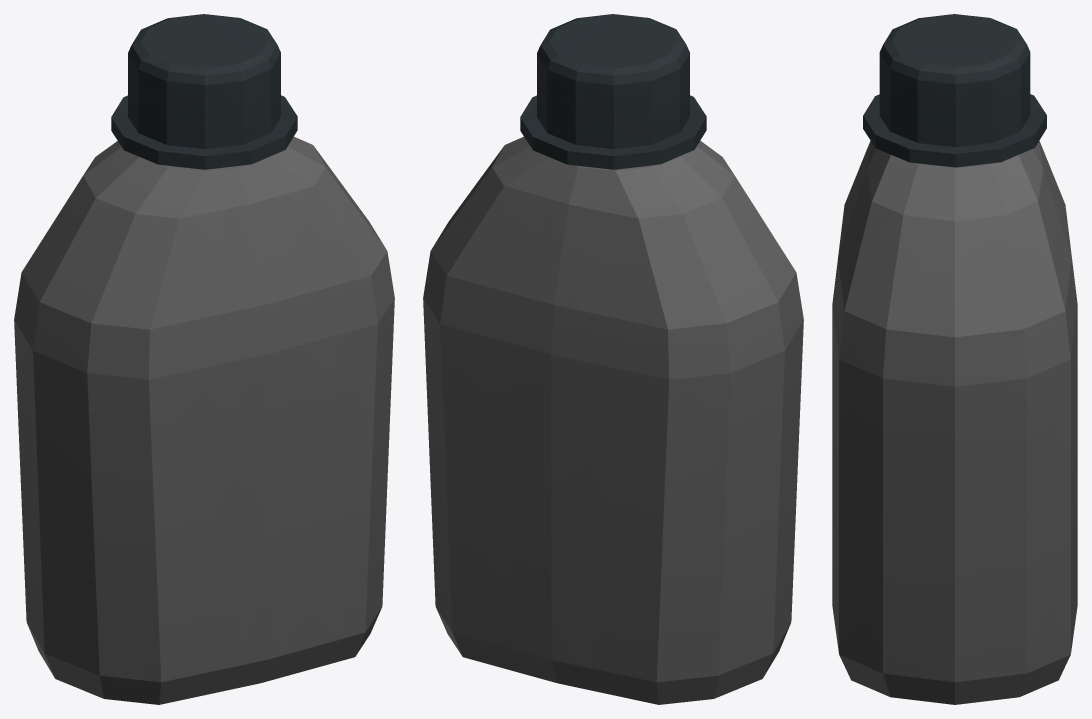
File: CanteenV1.glb
3 renders of one model, left to right at view 1: azimuth 30°, elevation 25°; view 2: azimuth 150°, elevation 25°; view 3: azimuth 270°, elevation 25°, orthographic.
Parts seen in each view (by area): view 1: CanteenV1; view 2: CanteenV1; view 3: CanteenV1.
Boxes of the visible parts, box(x1,y1,x2,y2) form: CanteenV1: box(14, 14, 394, 704); CanteenV1: box(423, 14, 803, 704); CanteenV1: box(832, 14, 1077, 704).
Bounding box in the file's own units: 0.1067 × 0.1823 × 0.0671.
Materials: 1 (1 with a texture image).
